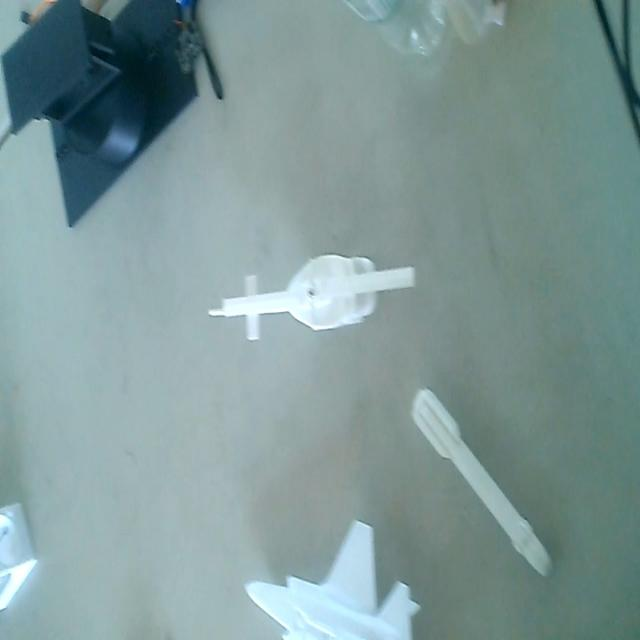Helicopter: (198, 240, 414, 355)
Rocket: (410, 380, 552, 584)
